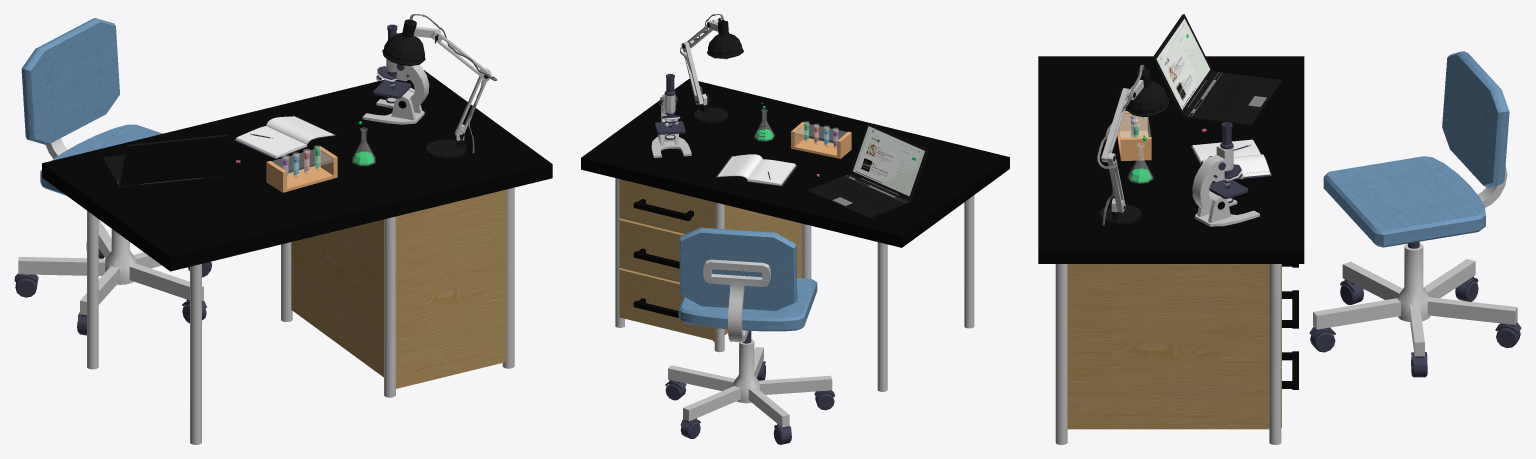
Rendered from desk.gltf.
3 views of the same model, side by side, from view 1: azimuth 30°, elevation 25°; view 2: azimuth 150°, elevation 25°; view 3: azimuth 270°, elevation 25° (orthographic). The views are drawn at different scales.
Parts seen in each view (by area): view 1: Box029, Box031, Chair parts, Box023, Buffer Layer (×3), Skeleton, Desk Lamp 2, Pages, Cylinder008, Cylinder009, Science Tubes 2, Cylinder011 (+6 smaller); view 2: Box029, Chair parts, Skeleton, Buffer Layer (×4), Box020, Box032, Box027, mockup - baked, Box023, Desk Lamp 2, Cylinder011, Pages (+9 smaller); view 3: Box029, Box019, Chair parts, Skeleton, Buffer Layer (×5), Desk Lamp 2, Cylinder007, Cylinder010, Wheels, mockup - baked, Pages, Science Tubes 2 (+3 smaller).
Part boxes in pixels (x1,y1,x2,y2): Box029: (42,70,552,271); Box031: (396,189,506,388); Chair parts: (21,18,162,195); Box023: (291,219,383,377); Buffer Layer (×3): (102,134,467,187); Skeleton: (18,138,203,315); Desk Lamp 2: (382,14,497,153); Pages: (236,116,334,158); Cylinder008: (384,216,395,397); Cylinder009: (190,264,201,444); Science Tubes 2: (266,146,337,192); Cylinder011: (87,211,98,369); Box029: (581,79,1009,247); Chair parts: (678,227,817,331); Skeleton: (668,259,832,427); Buffer Layer (×4): (693,104,928,218); Box020: (619,269,714,340); Box032: (619,179,714,234); Box027: (619,219,684,282); mockup - baked: (856,128,922,182); Box023: (713,202,802,341); Desk Lamp 2: (680,14,743,104); Cylinder011: (877,242,887,391); Pages: (717,154,795,185); Box029: (1038,56,1304,263); Box019: (1067,264,1269,429); Chair parts: (1323,51,1509,247); Skeleton: (1313,166,1517,356); Buffer Layer (×5): (1099,14,1281,224); Desk Lamp 2: (1097,64,1169,225); Cylinder007: (1269,264,1281,444); Cylinder010: (1055,264,1067,444); Wheels: (1309,276,1521,377); mockup - baked: (1158,21,1195,106); Pages: (1192,139,1270,177); Science Tubes 2: (1117,111,1151,160).
Size of the model in its own units: 0.3373 by 0.2865 by 0.3571.
153 materials, 8 textured.
